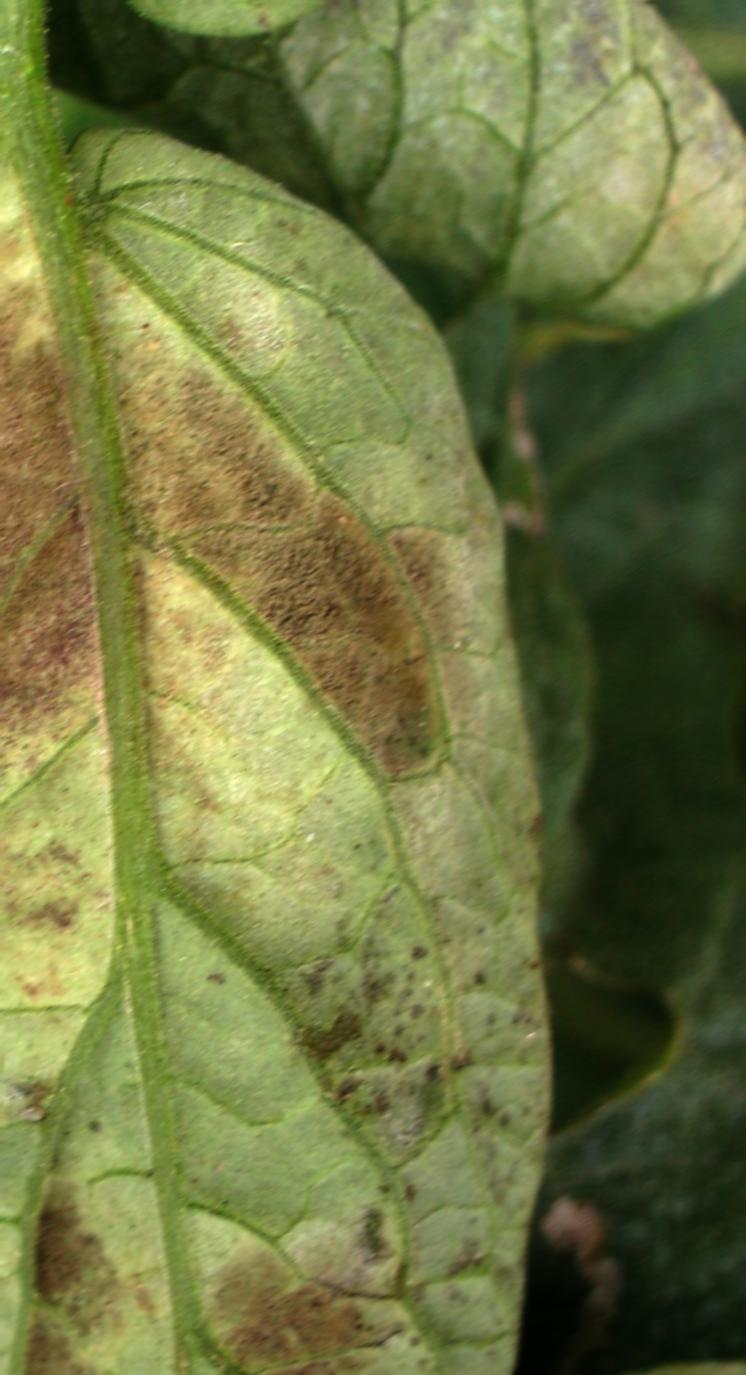Tomato mold leaf: (0, 0, 609, 1375), (140, 0, 745, 406)
